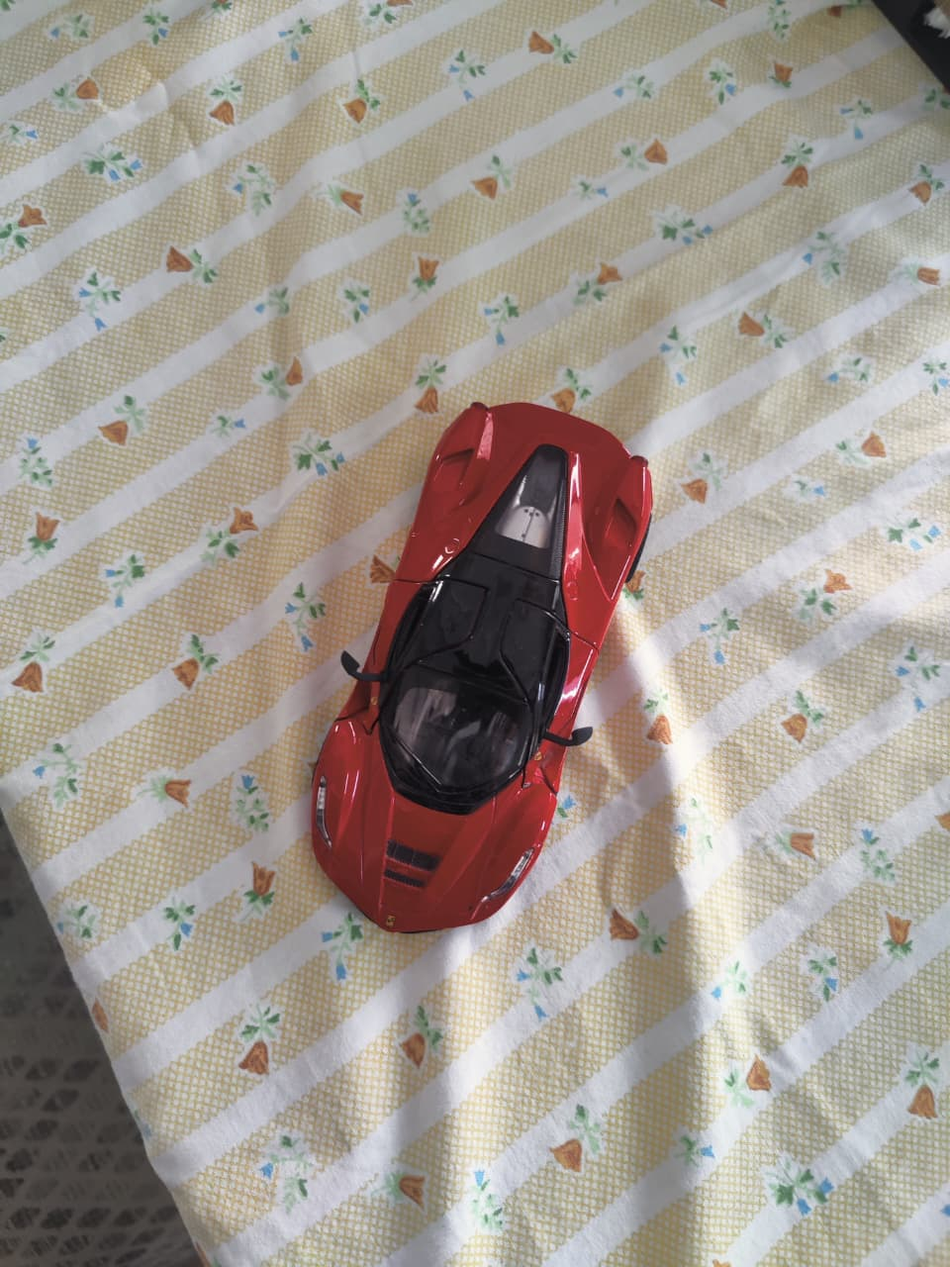car: (309, 399, 655, 933)
